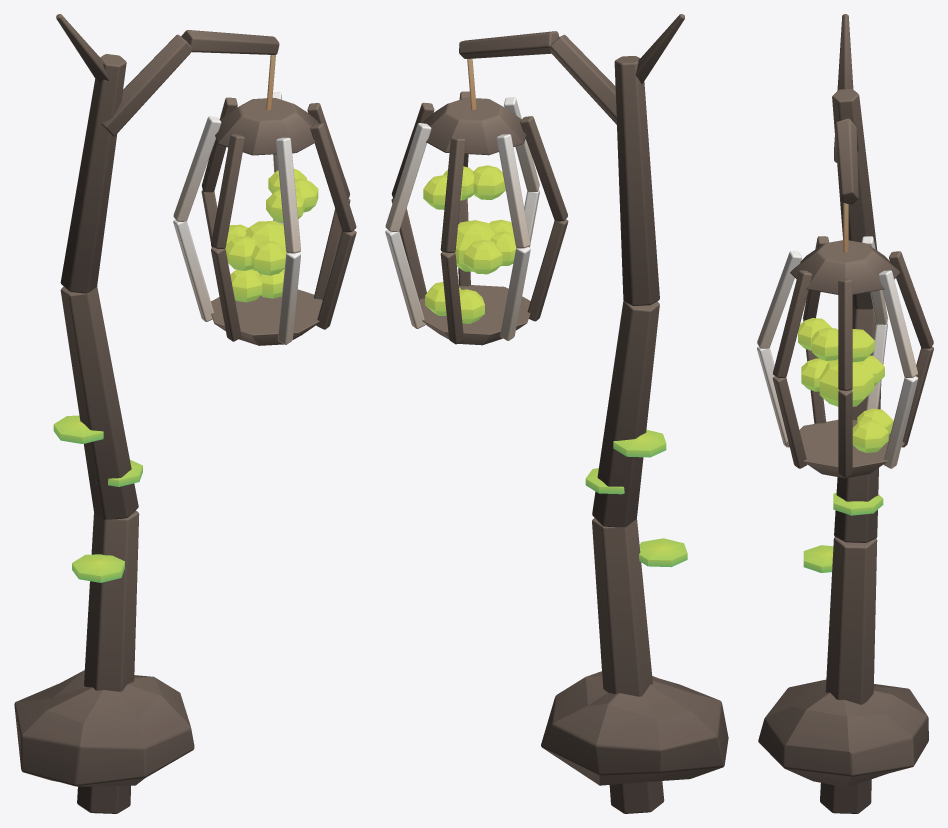
The model's file is bog_lantern.glb.
3 views of the same model, side by side, from view 1: azimuth 30°, elevation 25°; view 2: azimuth 150°, elevation 25°; view 3: azimuth 270°, elevation 25° (orthographic). The views are drawn at different scales.
Parts seen in each view (by area): view 1: bog_lantern; view 2: bog_lantern; view 3: bog_lantern.
Part boxes in pixels (x1=…): bog_lantern: x1=14, y1=14, x2=356, y2=813; bog_lantern: x1=385, y1=14, x2=728, y2=813; bog_lantern: x1=757, y1=14, x2=933, y2=813.
Bounding box in the file's own units: 1.82 × 4.21 × 0.8772.
Materials: 3 (3 with a texture image).
